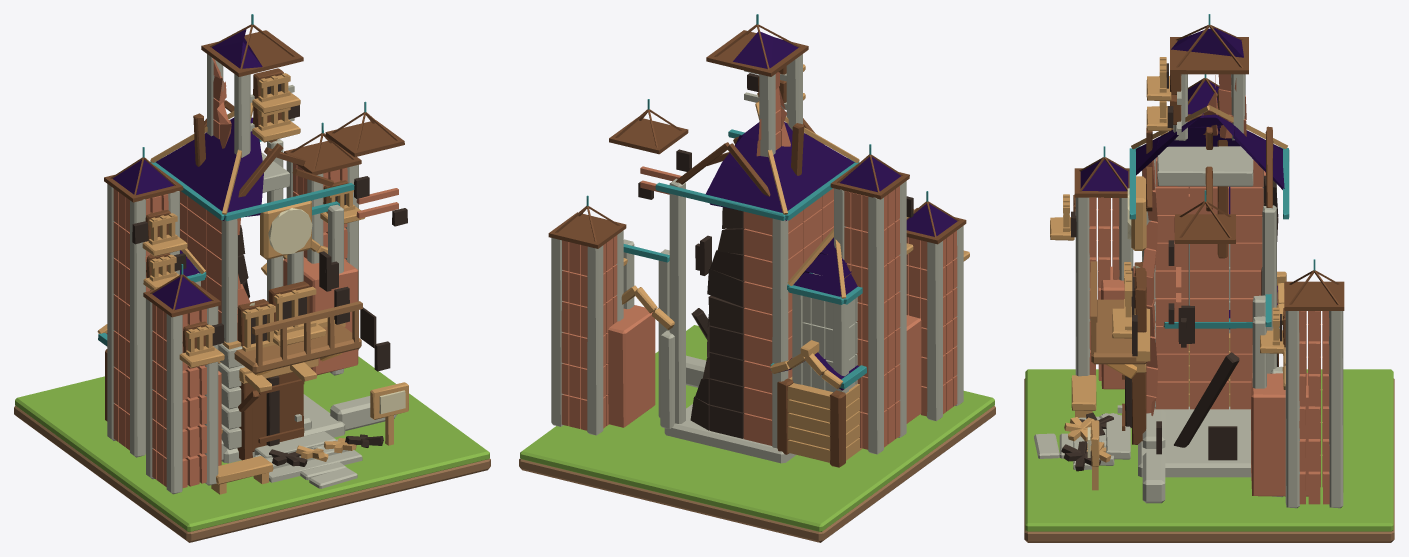
Rendered from town_hall_l14_damaged_LOD1.glb.
The picture shows the model from 3 angles, left to right: view 1: azimuth 30°, elevation 25°; view 2: azimuth 150°, elevation 25°; view 3: azimuth 270°, elevation 25°; orthographic projection. The views are drawn at different scales.
Parts seen in each view (by area): view 1: town_hall_l14_damaged_foundation.001, town_hall_l14_damaged_grass_tile.001, town_hall_l14_damaged_earth_tile.001, town_hall_l14_damaged_path_stone.005; view 2: town_hall_l14_damaged_foundation.001, town_hall_l14_damaged_grass_tile.001, town_hall_l14_damaged_earth_tile.001; view 3: town_hall_l14_damaged_foundation.001, town_hall_l14_damaged_grass_tile.001, town_hall_l14_damaged_earth_tile.001, town_hall_l14_damaged_path_stone.005.
Boxes of the visible parts, bbox=[...] form: town_hall_l14_damaged_foundation.001: bbox=[97, 14, 408, 494]; town_hall_l14_damaged_grass_tile.001: bbox=[15, 356, 489, 531]; town_hall_l14_damaged_earth_tile.001: bbox=[14, 405, 490, 542]; town_hall_l14_damaged_path_stone.005: bbox=[309, 467, 357, 488]; town_hall_l14_damaged_foundation.001: bbox=[548, 14, 969, 467]; town_hall_l14_damaged_grass_tile.001: bbox=[520, 325, 994, 531]; town_hall_l14_damaged_earth_tile.001: bbox=[519, 405, 995, 542]; town_hall_l14_damaged_foundation.001: bbox=[1050, 14, 1344, 508]; town_hall_l14_damaged_grass_tile.001: bbox=[1025, 369, 1393, 531]; town_hall_l14_damaged_earth_tile.001: bbox=[1024, 378, 1394, 542]; town_hall_l14_damaged_path_stone.005: bbox=[1034, 433, 1059, 458].
Size of the model in its own units: 3.6 by 4.85 by 3.6.
